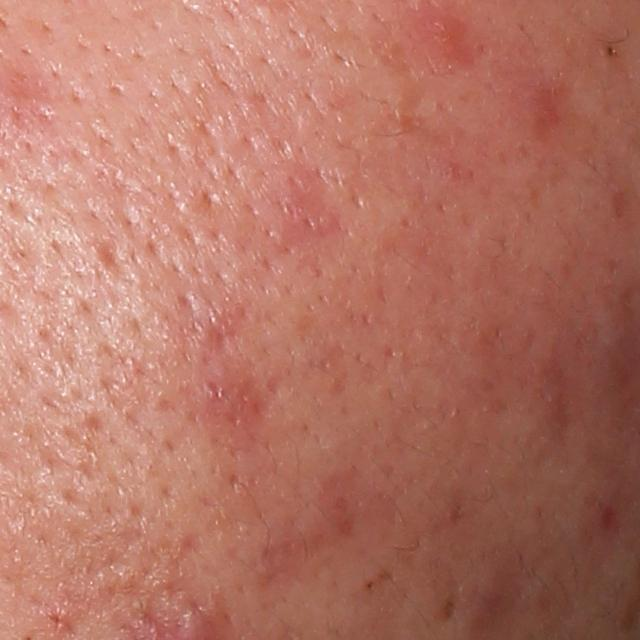atrophic_scar: (92, 237, 131, 283)
comedo: (355, 569, 380, 598), (598, 40, 621, 62)
